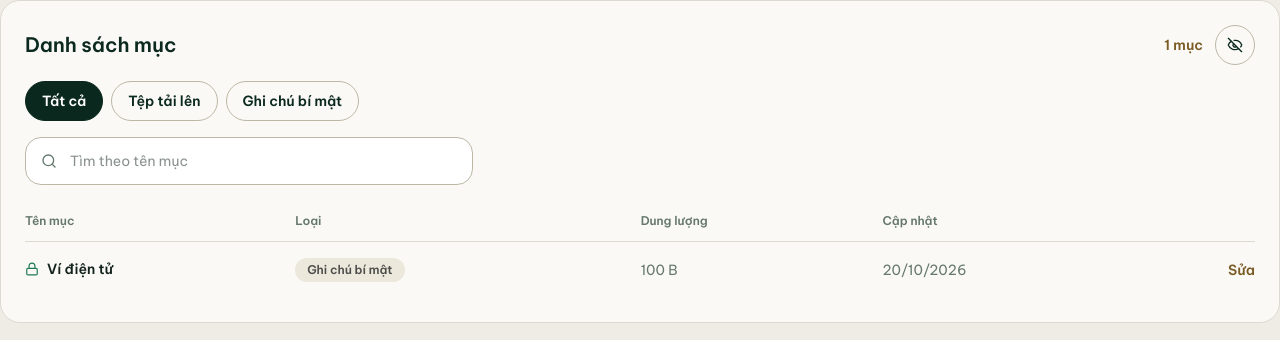
Scenario: AssetList › reuses a recent PIN unlock (e.g. back from the detail page) and forgets it when hidden
Expected: the link "Ví điện tử" is shown, [25,259,113,279]
Click the button named "Ẩn thông tin các mục" at (1235, 45), box [1215,25,1255,65]
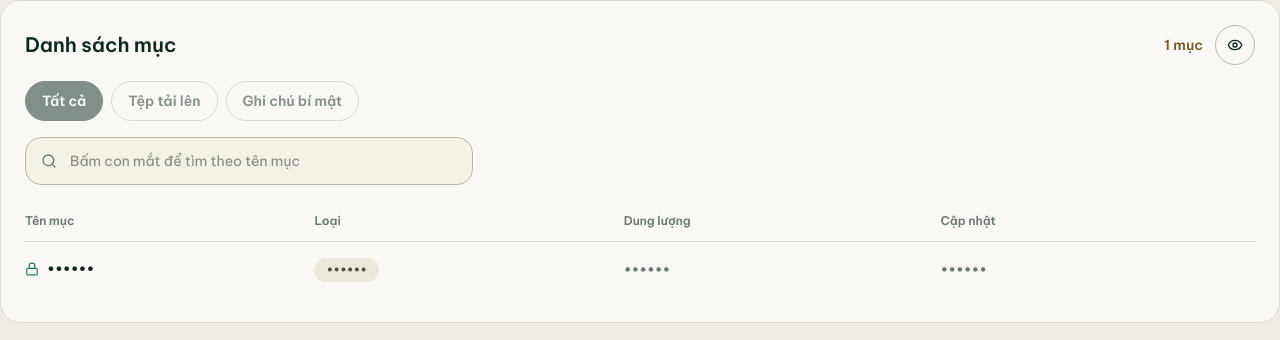
Expected: the link "Ví điện tử" is gone
